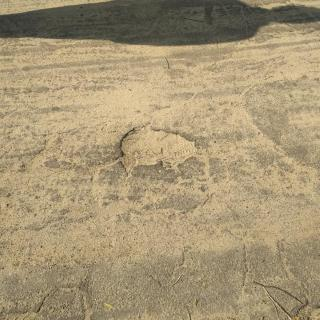pothole: (119, 128, 202, 174)
